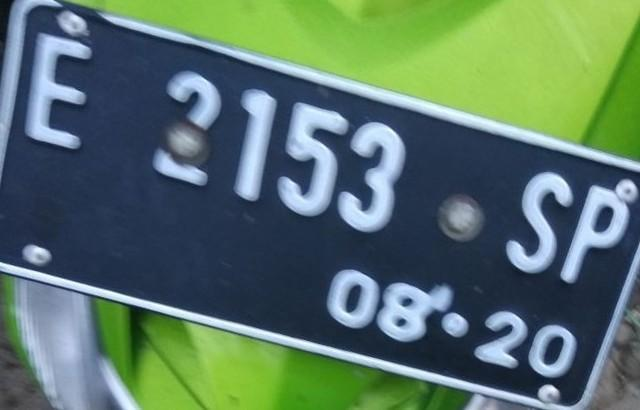clone-license-plate: (0, 0, 639, 407)
